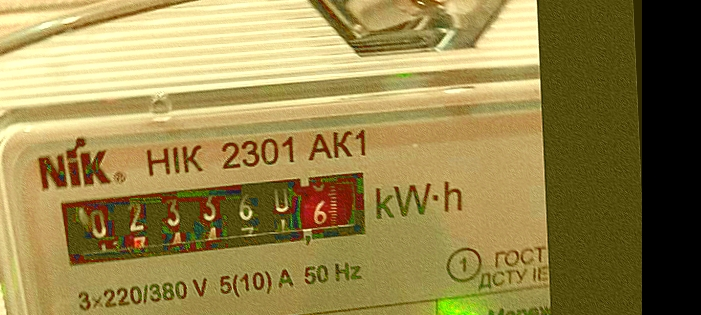0: (86, 207, 109, 242), (268, 184, 291, 216)
2: (125, 200, 146, 234)
3: (198, 190, 219, 224), (161, 197, 181, 229)
6: (233, 190, 256, 224), (309, 196, 331, 230)
screen: (43, 163, 384, 273)
